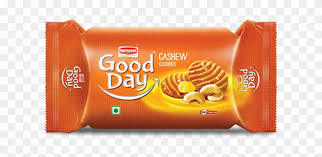VEG: (111, 106, 120, 115)
